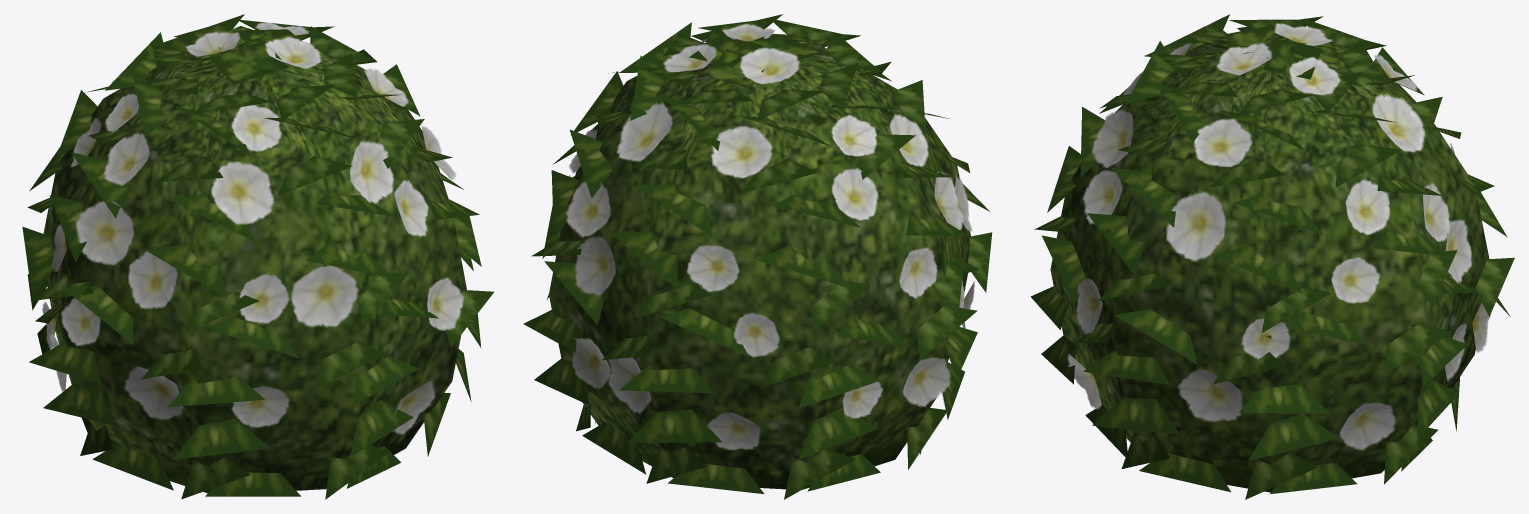
3 views of the same model, side by side, from view 1: azimuth 30°, elevation 25°; view 2: azimuth 150°, elevation 25°; view 3: azimuth 270°, elevation 25° (orthographic).
Parts seen in each view (by area): view 1: um_t1_pl039_model_t1_pl039_modelShape; view 2: um_t1_pl039_model_t1_pl039_modelShape; view 3: um_t1_pl039_model_t1_pl039_modelShape.
Part boxes in pixels (<box>): um_t1_pl039_model_t1_pl039_modelShape: <box>22,14,494,499</box>; um_t1_pl039_model_t1_pl039_modelShape: <box>523,14,992,499</box>; um_t1_pl039_model_t1_pl039_modelShape: <box>1030,14,1514,499</box>.
Bounding box in the file's own units: 1.5 × 1.32 × 1.49.
2 materials, 2 textured.
